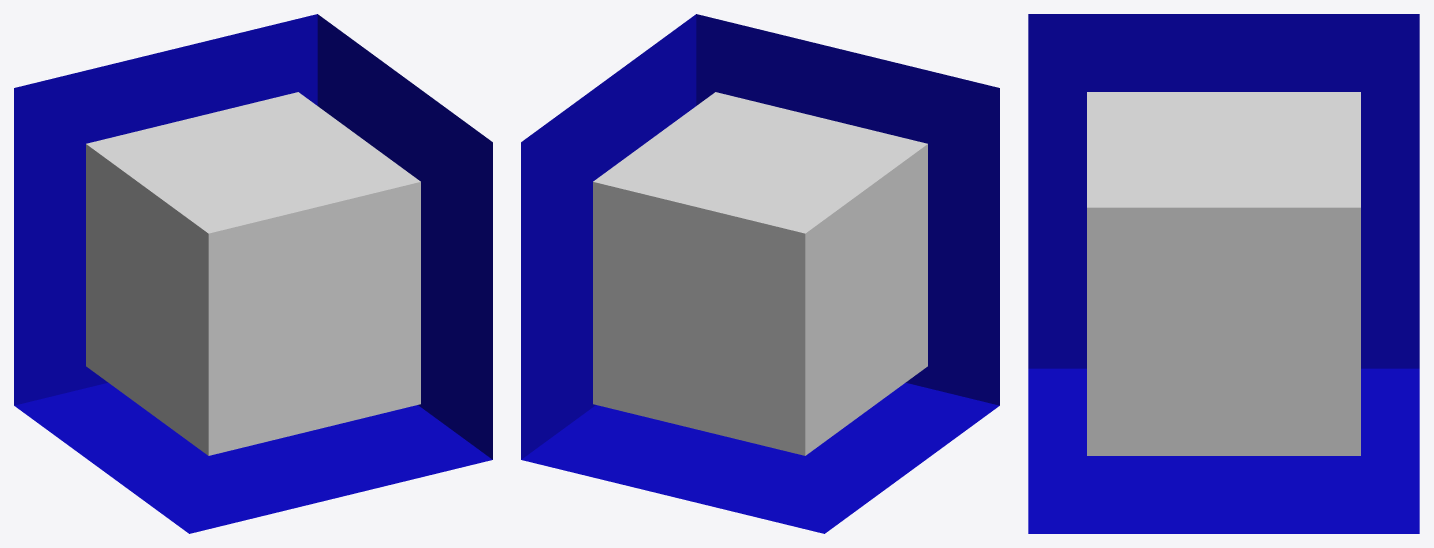
The model's file is cubenote.fbx.
The picture shows the model from 3 angles, left to right: view 1: azimuth 30°, elevation 25°; view 2: azimuth 150°, elevation 25°; view 3: azimuth 270°, elevation 25°; orthographic projection. The views are drawn at different scales.
Visible parts, largest first — view 1: Cube.003; view 2: Cube.003; view 3: Cube.003.
Boxes of the visible parts, x1,y1,x2,y2 form: Cube.003: (14,14,492,533); Cube.003: (521,14,999,533); Cube.003: (1028,14,1419,533).
Size of the model in its own units: 0.26 by 0.26 by 0.26.
